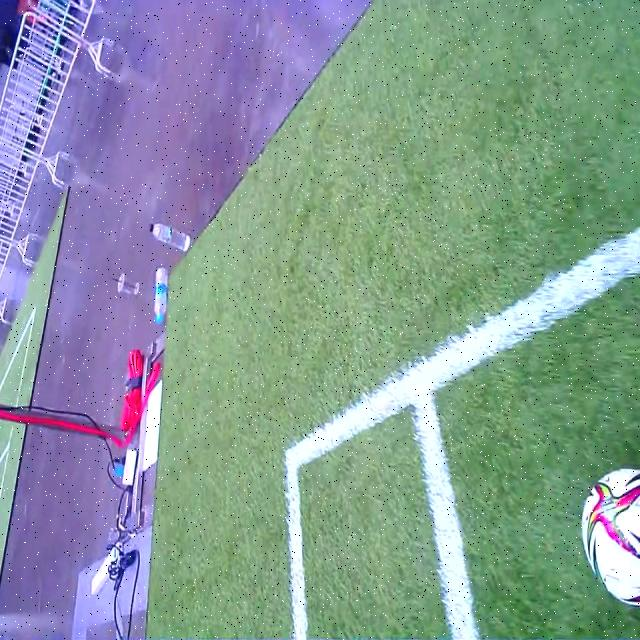ball: (581, 466, 640, 607)
